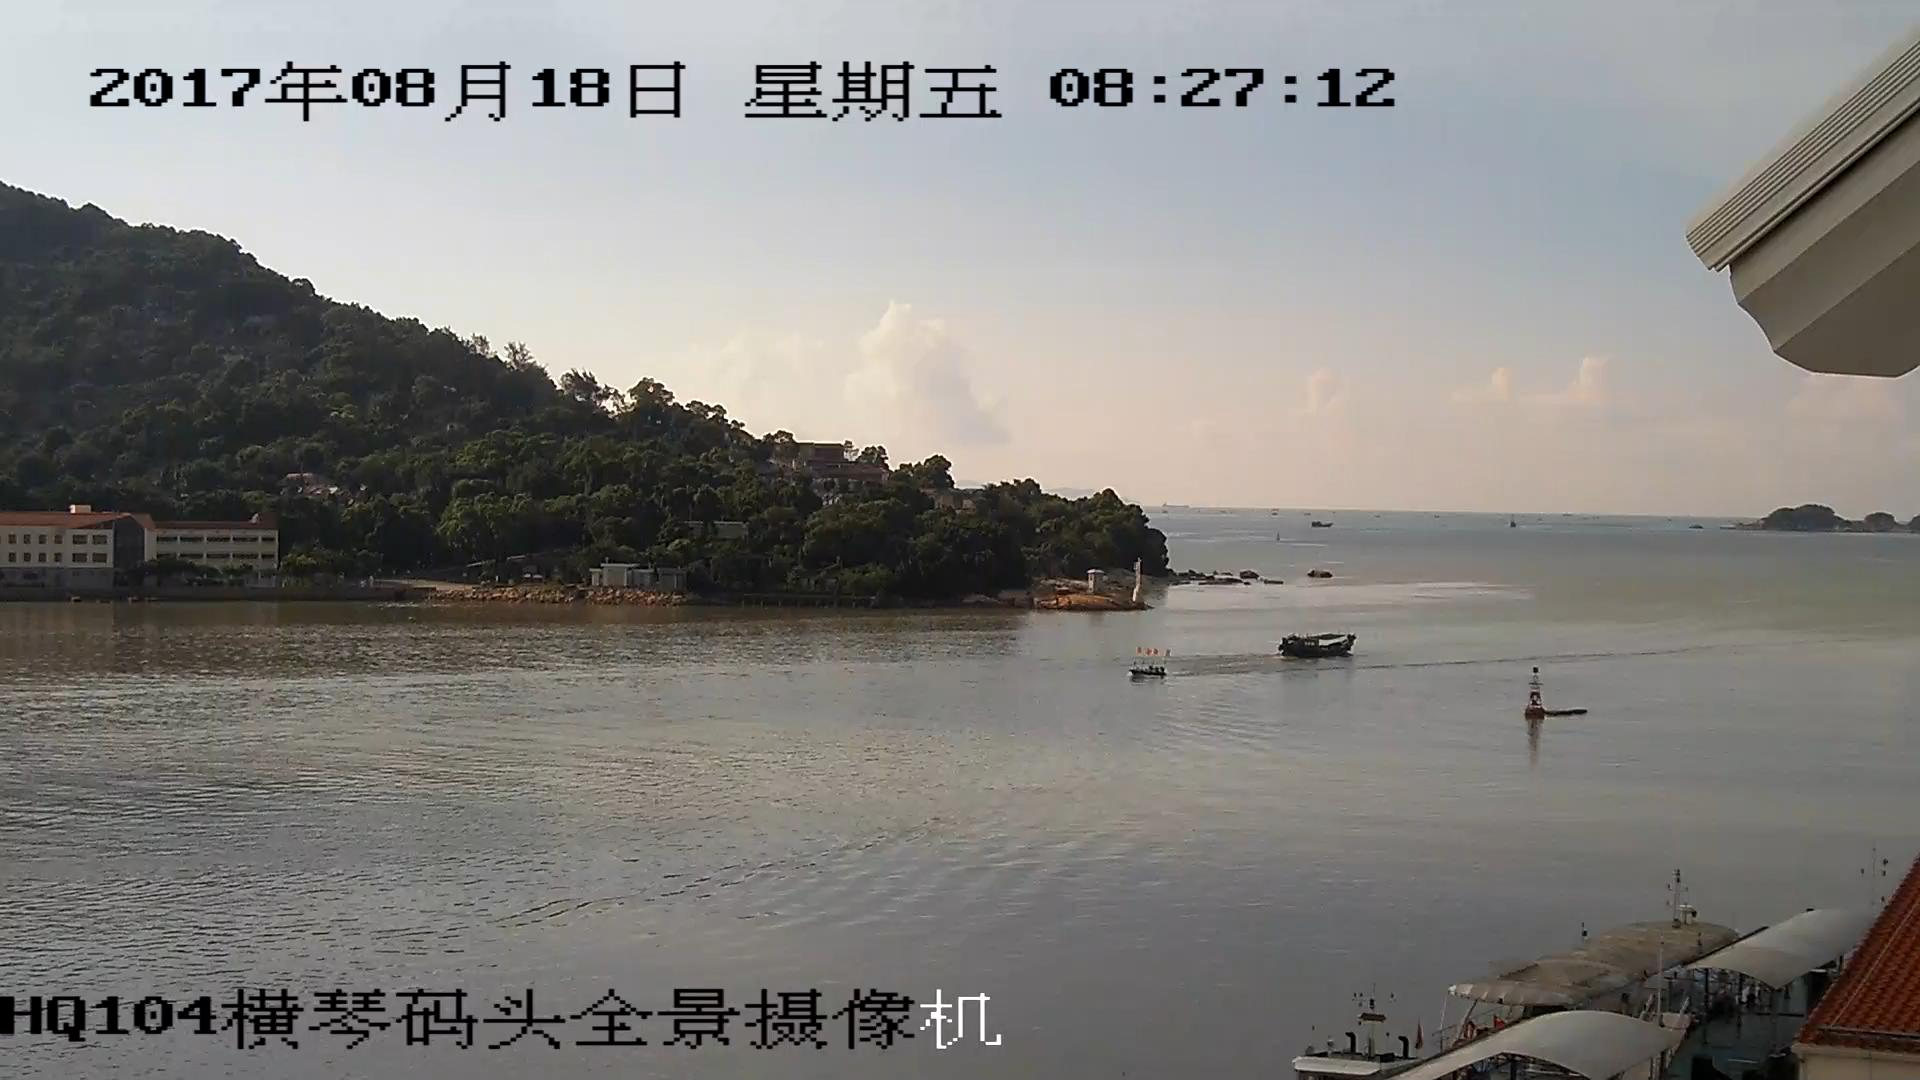fishing boat: (1280, 631, 1361, 656), (1123, 647, 1168, 681)
